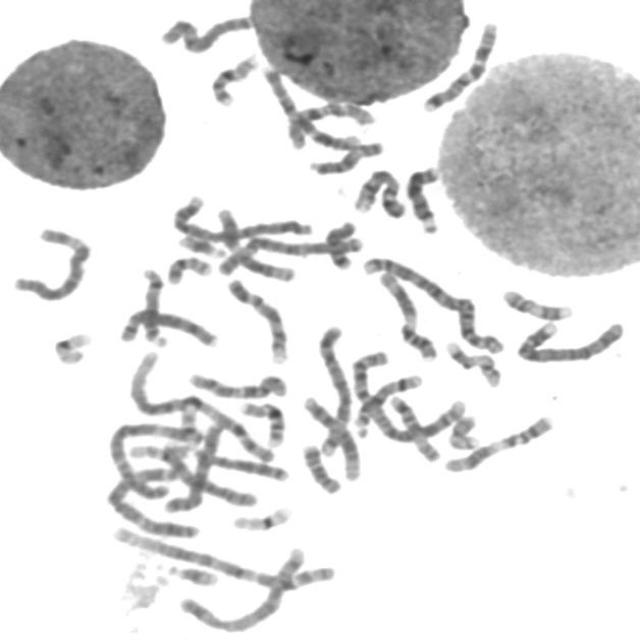A1: (122, 345, 280, 464), (106, 520, 337, 594)
A2: (358, 249, 509, 356), (346, 344, 464, 447)
A3: (107, 418, 215, 498), (102, 458, 203, 540)
B4: (166, 191, 315, 242), (509, 312, 628, 365)
B5: (174, 541, 313, 634), (311, 319, 354, 469)
C10: (281, 95, 376, 150), (182, 366, 290, 400)
C11: (437, 410, 558, 474), (372, 262, 441, 362)
C12: (212, 201, 299, 283), (297, 390, 363, 482)
C6: (213, 233, 380, 282), (6, 221, 95, 302)
C7: (244, 66, 360, 156), (416, 15, 501, 113)
C8: (158, 438, 261, 510), (113, 303, 221, 349)
C9: (220, 272, 292, 365), (347, 162, 408, 219)
D13: (190, 444, 290, 484), (400, 159, 444, 235)
D14: (348, 366, 427, 437), (136, 261, 169, 348)
D15: (383, 388, 442, 464), (304, 136, 386, 176)
E16: (205, 47, 261, 108), (234, 395, 288, 448)
E17: (440, 335, 504, 388), (496, 282, 576, 322)
E18: (296, 438, 344, 495), (320, 214, 360, 270)
F19: (226, 499, 295, 534), (47, 326, 95, 366)
F20: (161, 249, 214, 286), (442, 409, 481, 452)
G21: (160, 558, 222, 588), (174, 229, 228, 259)
G22: (123, 439, 194, 462), (175, 402, 205, 447)
X: (158, 416, 226, 516), (154, 7, 257, 54)
